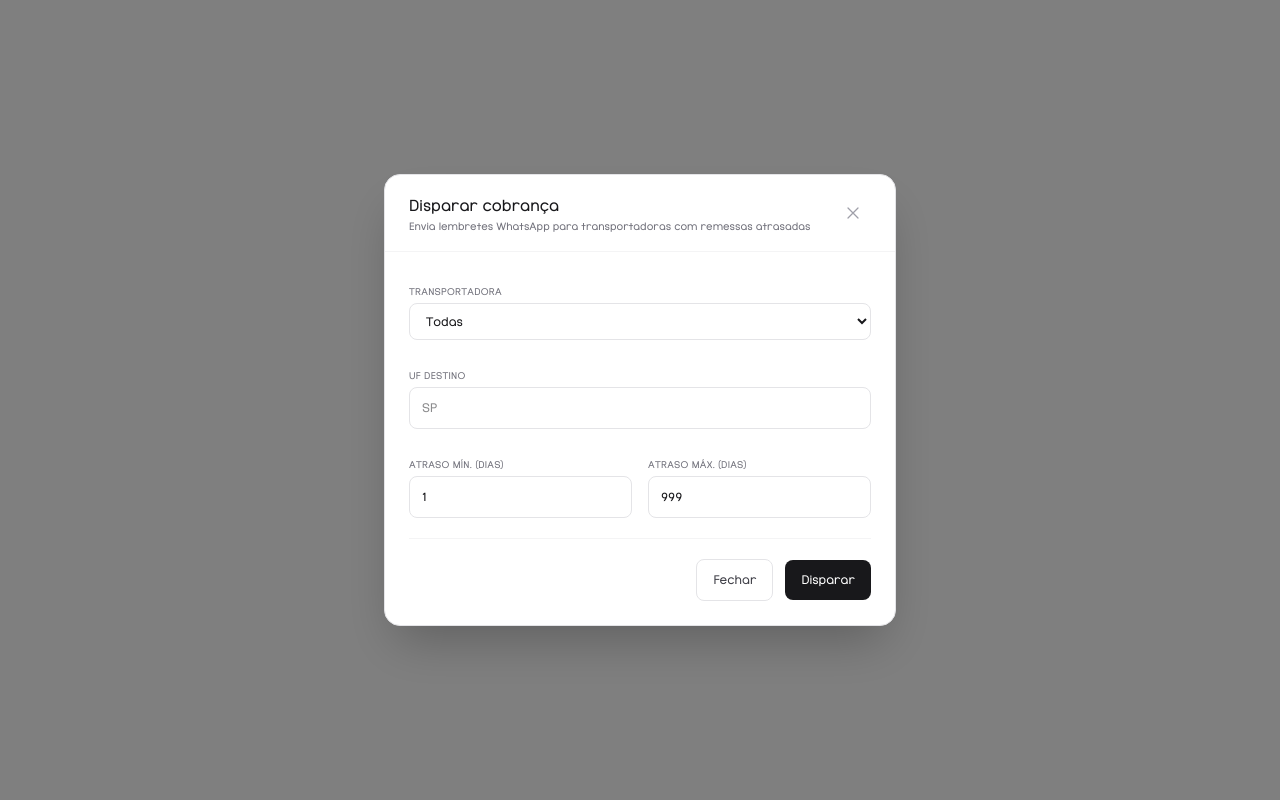
Test: ChargeDispatchModal › trata erro 403 exibindo mensagem
Click the button "Disparar" at (828, 580), box [785,560,871,600]
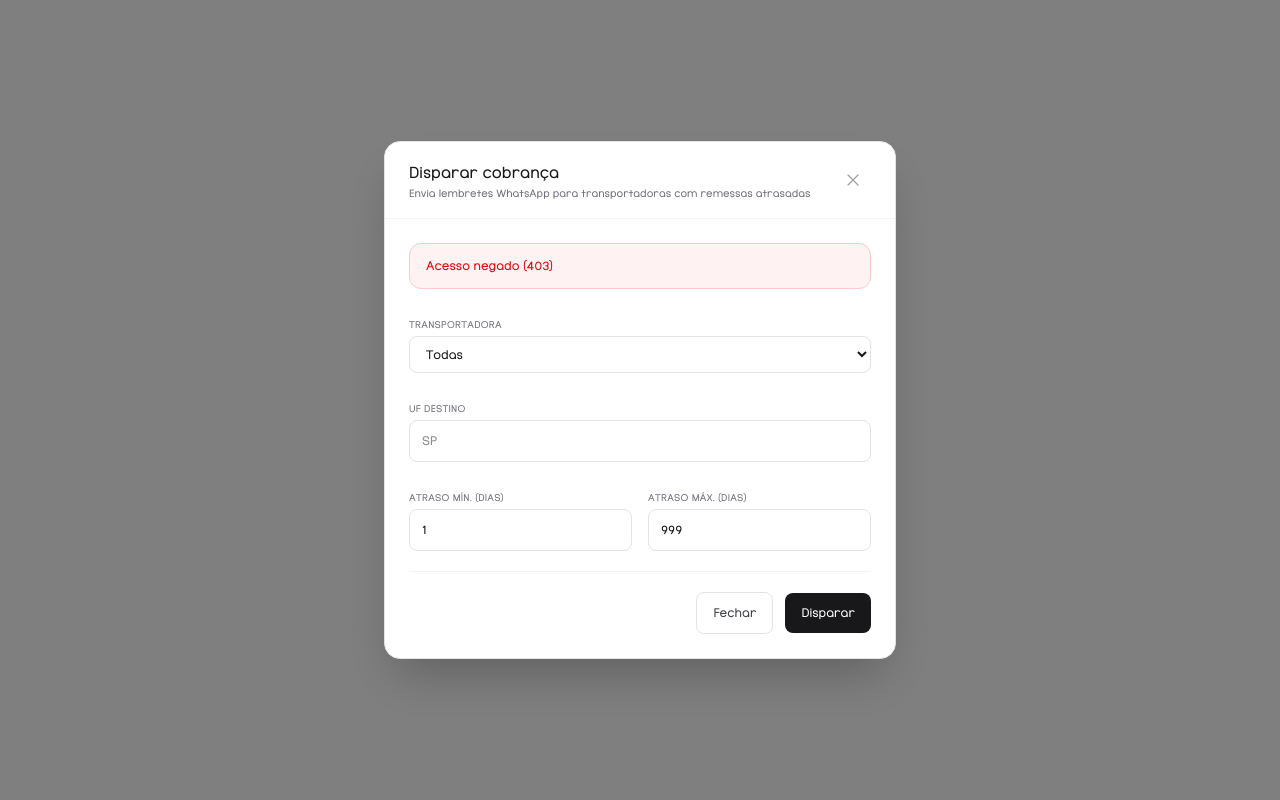
Result: the text "Acesso negado (403)" is shown at [409,243,871,289]
